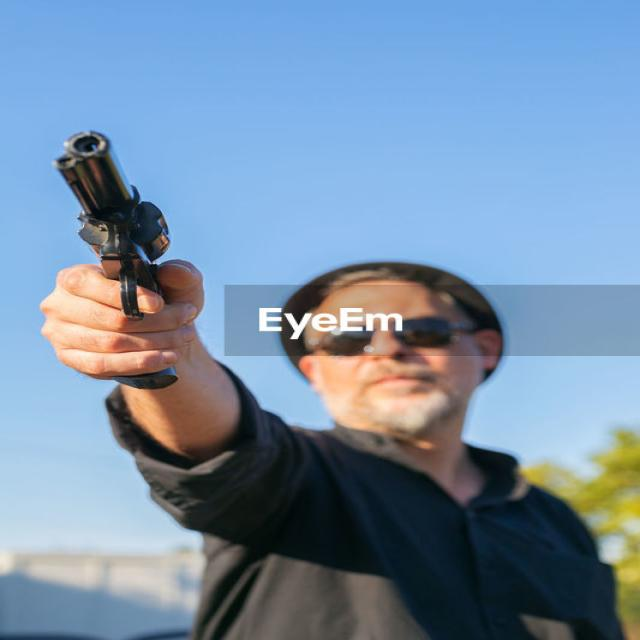HandGun: (52, 130, 171, 322)
